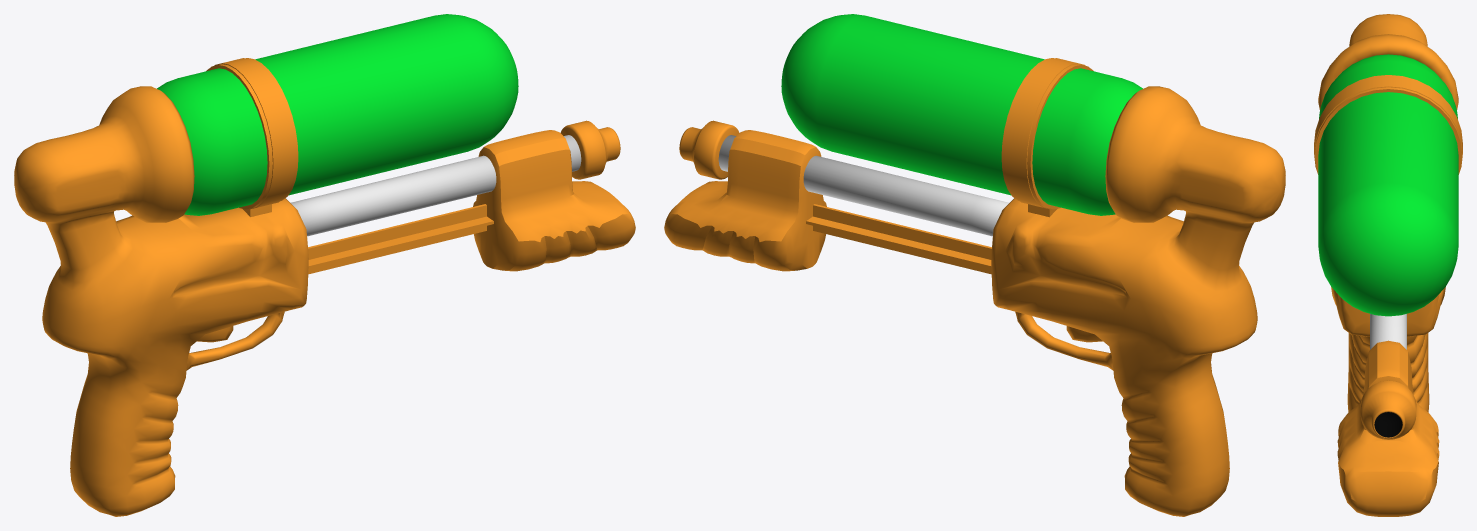
File: SuperPortaller.fbx
3 views of the same model, side by side, from view 1: azimuth 30°, elevation 25°; view 2: azimuth 150°, elevation 25°; view 3: azimuth 270°, elevation 25° (orthographic).
Parts seen in each view (by area): view 1: gun, Sphere, Cube, tube, Cylinder.001, cocker, Cylinder; view 2: gun, Sphere, Cube, tube, Cylinder.001, cocker, Cylinder; view 3: Sphere, Cube, gun, Cylinder.001, Cylinder, tube.
Boxes of the visible parts, x1,y1,x2,y2 form: gun: (14,86,308,516); Sphere: (157,14,518,215); Cube: (473,130,635,271); tube: (290,135,581,236); Cylinder.001: (206,58,298,217); cocker: (308,204,493,274); Cylinder: (560,120,620,179); gun: (991,86,1285,516); Sphere: (781,14,1142,215); Cube: (664,130,826,271); tube: (718,135,1009,236); Cylinder.001: (1001,58,1093,217); cocker: (806,204,991,274); Cylinder: (679,120,739,179); Sphere: (1318,54,1458,316); Cube: (1337,340,1439,516); gun: (1318,14,1458,412); Cylinder.001: (1314,75,1462,174); Cylinder: (1360,380,1416,439); tube: (1370,314,1406,349).
Size of the model in its own units: 436 by 282 by 93.79.
